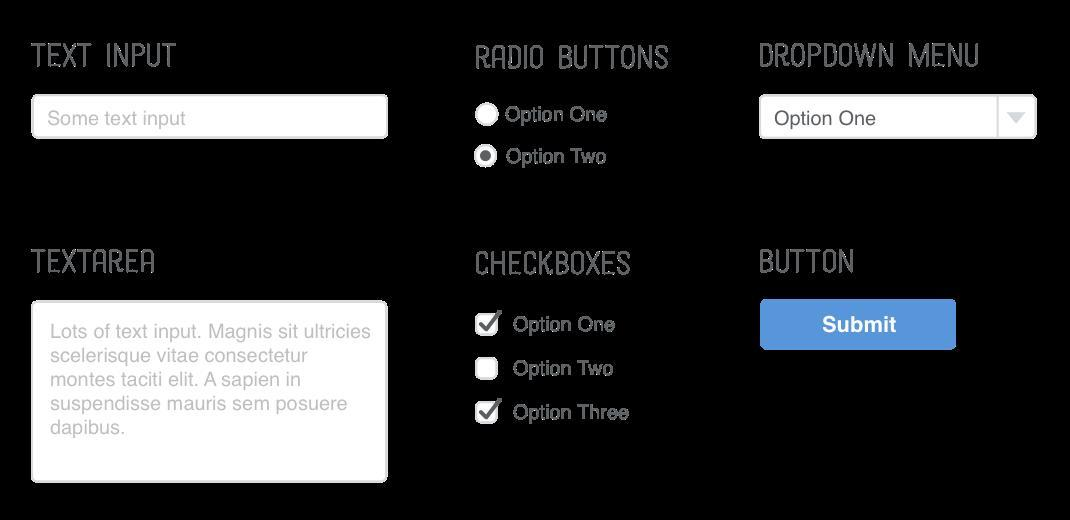button: (759, 297, 957, 350)
checkbox: (473, 310, 501, 339), (475, 356, 501, 381), (476, 402, 501, 426)
dropdown: (762, 93, 1037, 141)
input: (33, 94, 389, 139)
label: (750, 35, 992, 77), (471, 37, 673, 79), (468, 245, 639, 288), (26, 35, 181, 78), (29, 243, 164, 286), (751, 238, 865, 284), (514, 306, 624, 344), (513, 397, 639, 429), (513, 356, 621, 386), (505, 103, 614, 132), (510, 145, 611, 169)
radio: (474, 101, 502, 133), (473, 143, 501, 169)
